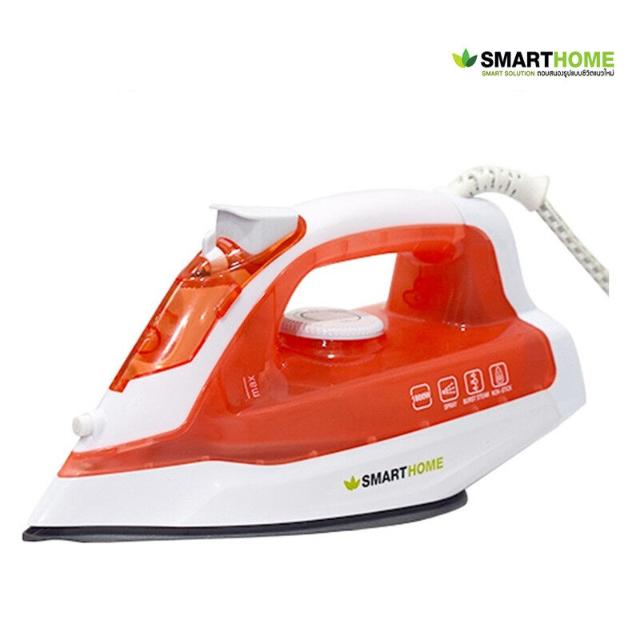Clothes-Iron: (20, 165, 594, 561)
